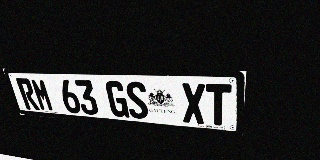3: (74, 80, 99, 115)
6: (57, 79, 82, 114)
G: (105, 81, 130, 118)
M: (30, 78, 55, 112)
R: (15, 78, 40, 110)
S: (124, 81, 149, 119)
T: (206, 84, 232, 126)
X: (181, 83, 206, 124)
